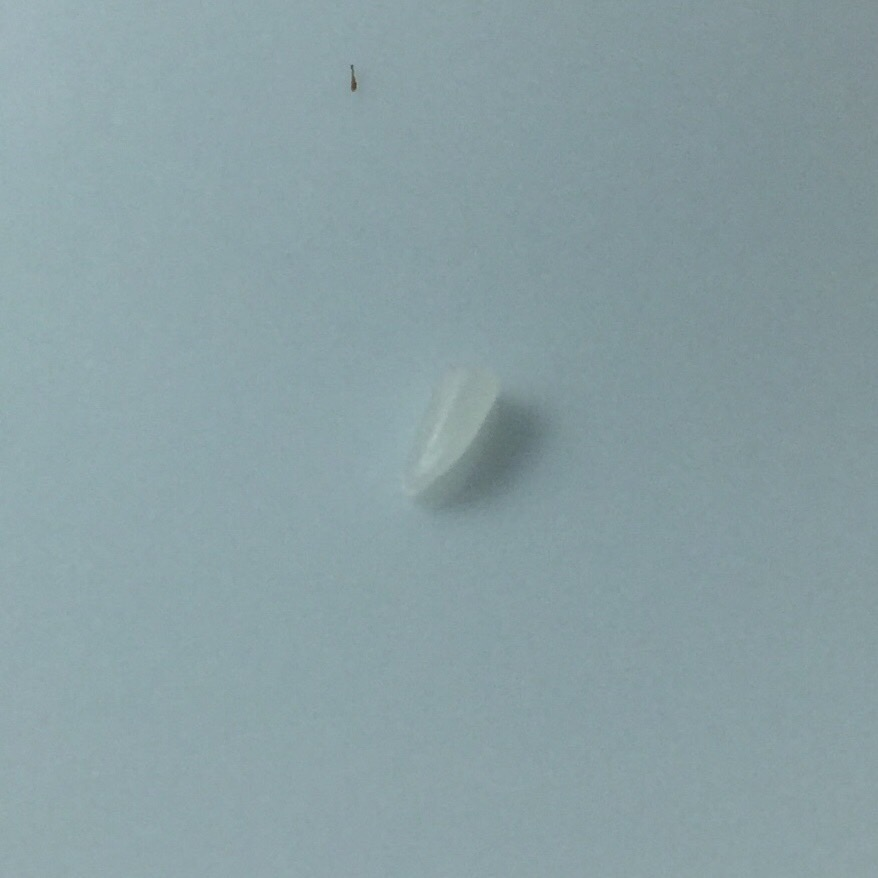Gao Tam: (404, 342, 503, 504)
